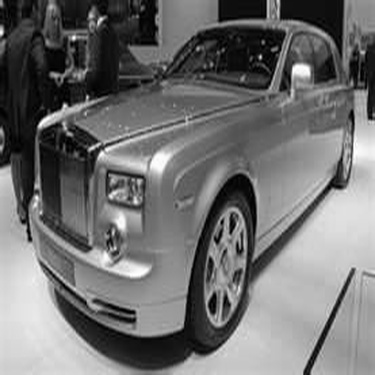car: (24, 12, 360, 342)
